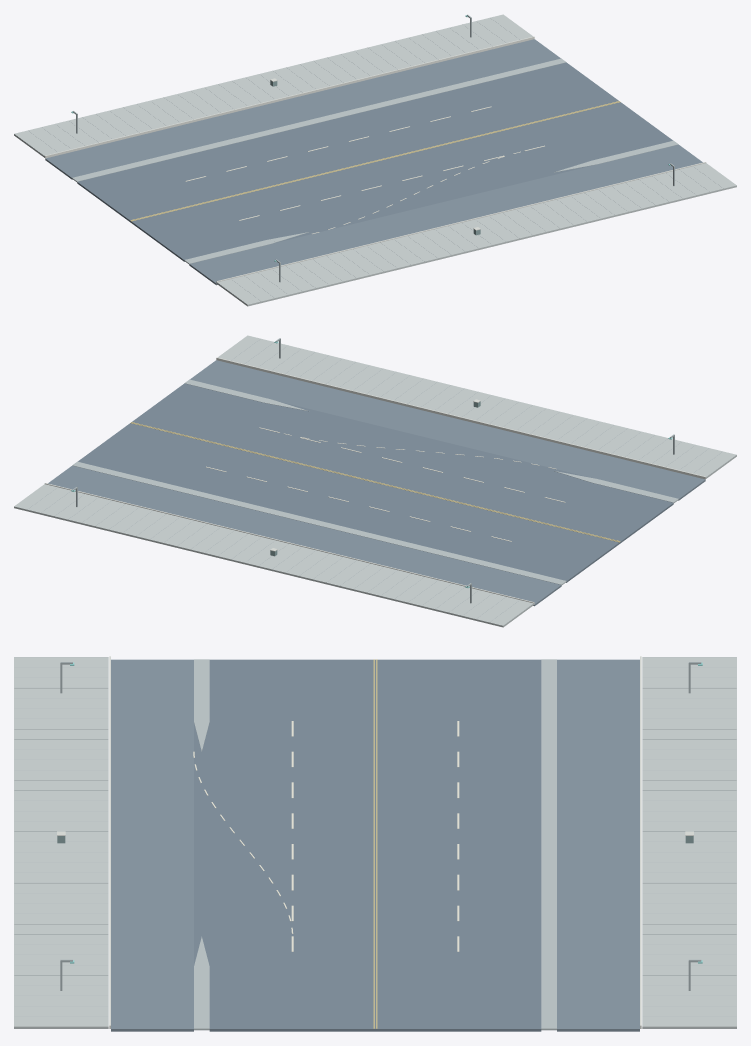
File: city-w68-s78.glb
3 views of the same model, one above another, from view 1: azimuth 30°, elevation 25°; view 2: azimuth 150°, elevation 25°; view 3: azimuth 270°, elevation 25° (orthographic). The views are drawn at different scales.
Visible parts, largest first — view 1: Main_road, Sidewalk, Frontage_roads, Medians, Curbs, Paving_joints, Merge_surface, Center_lines, Lane_markings; view 2: Main_road, Sidewalk, Frontage_roads, Medians, Curbs, Paving_joints, Merge_surface, Center_lines, Lane_markings; view 3: Main_road, Sidewalk, Frontage_roads, Medians, Paving_joints, Merge_surface, Curbs, Center_lines, Lane_markings.
Part boxes in pixels (x1=…): Main_road: x1=77, y1=62, x2=672, y2=261; Sidewalk: x1=14, y1=14, x2=736, y2=306; Frontage_roads: x1=45, y1=39, x2=702, y2=285; Medians: x1=72, y1=58, x2=678, y2=264; Curbs: x1=44, y1=36, x2=706, y2=283; Paving_joints: x1=15, y1=17, x2=723, y2=304; Merge_surface: x1=274, y1=162, x2=594, y2=243; Center_lines: x1=130, y1=101, x2=620, y2=221; Lane_markings: x1=185, y1=106, x2=544, y2=220; Main_road: x1=78, y1=383, x2=673, y2=582; Sidewalk: x1=14, y1=335, x2=736, y2=627; Frontage_roads: x1=48, y1=360, x2=705, y2=606; Medians: x1=72, y1=379, x2=678, y2=585; Curbs: x1=44, y1=357, x2=706, y2=604; Paving_joints: x1=27, y1=338, x2=735, y2=625; Merge_surface: x1=268, y1=401, x2=591, y2=482; Center_lines: x1=130, y1=422, x2=620, y2=542; Lane_markings: x1=206, y1=427, x2=565, y2=541; Main_road: x1=209, y1=659, x2=541, y2=1031; Sidewalk: x1=14, y1=657, x2=736, y2=1028; Frontage_roads: x1=111, y1=659, x2=639, y2=1031; Medians: x1=194, y1=659, x2=556, y2=1030; Paving_joints: x1=14, y1=657, x2=736, y2=1016; Merge_surface: x1=194, y1=723, x2=209, y2=965; Curbs: x1=109, y1=656, x2=641, y2=1028; Center_lines: x1=373, y1=659, x2=377, y2=1028; Lane_markings: x1=291, y1=721, x2=459, y2=951.
Size of the model in its own units: 72 by 3.26 by 59.55.
